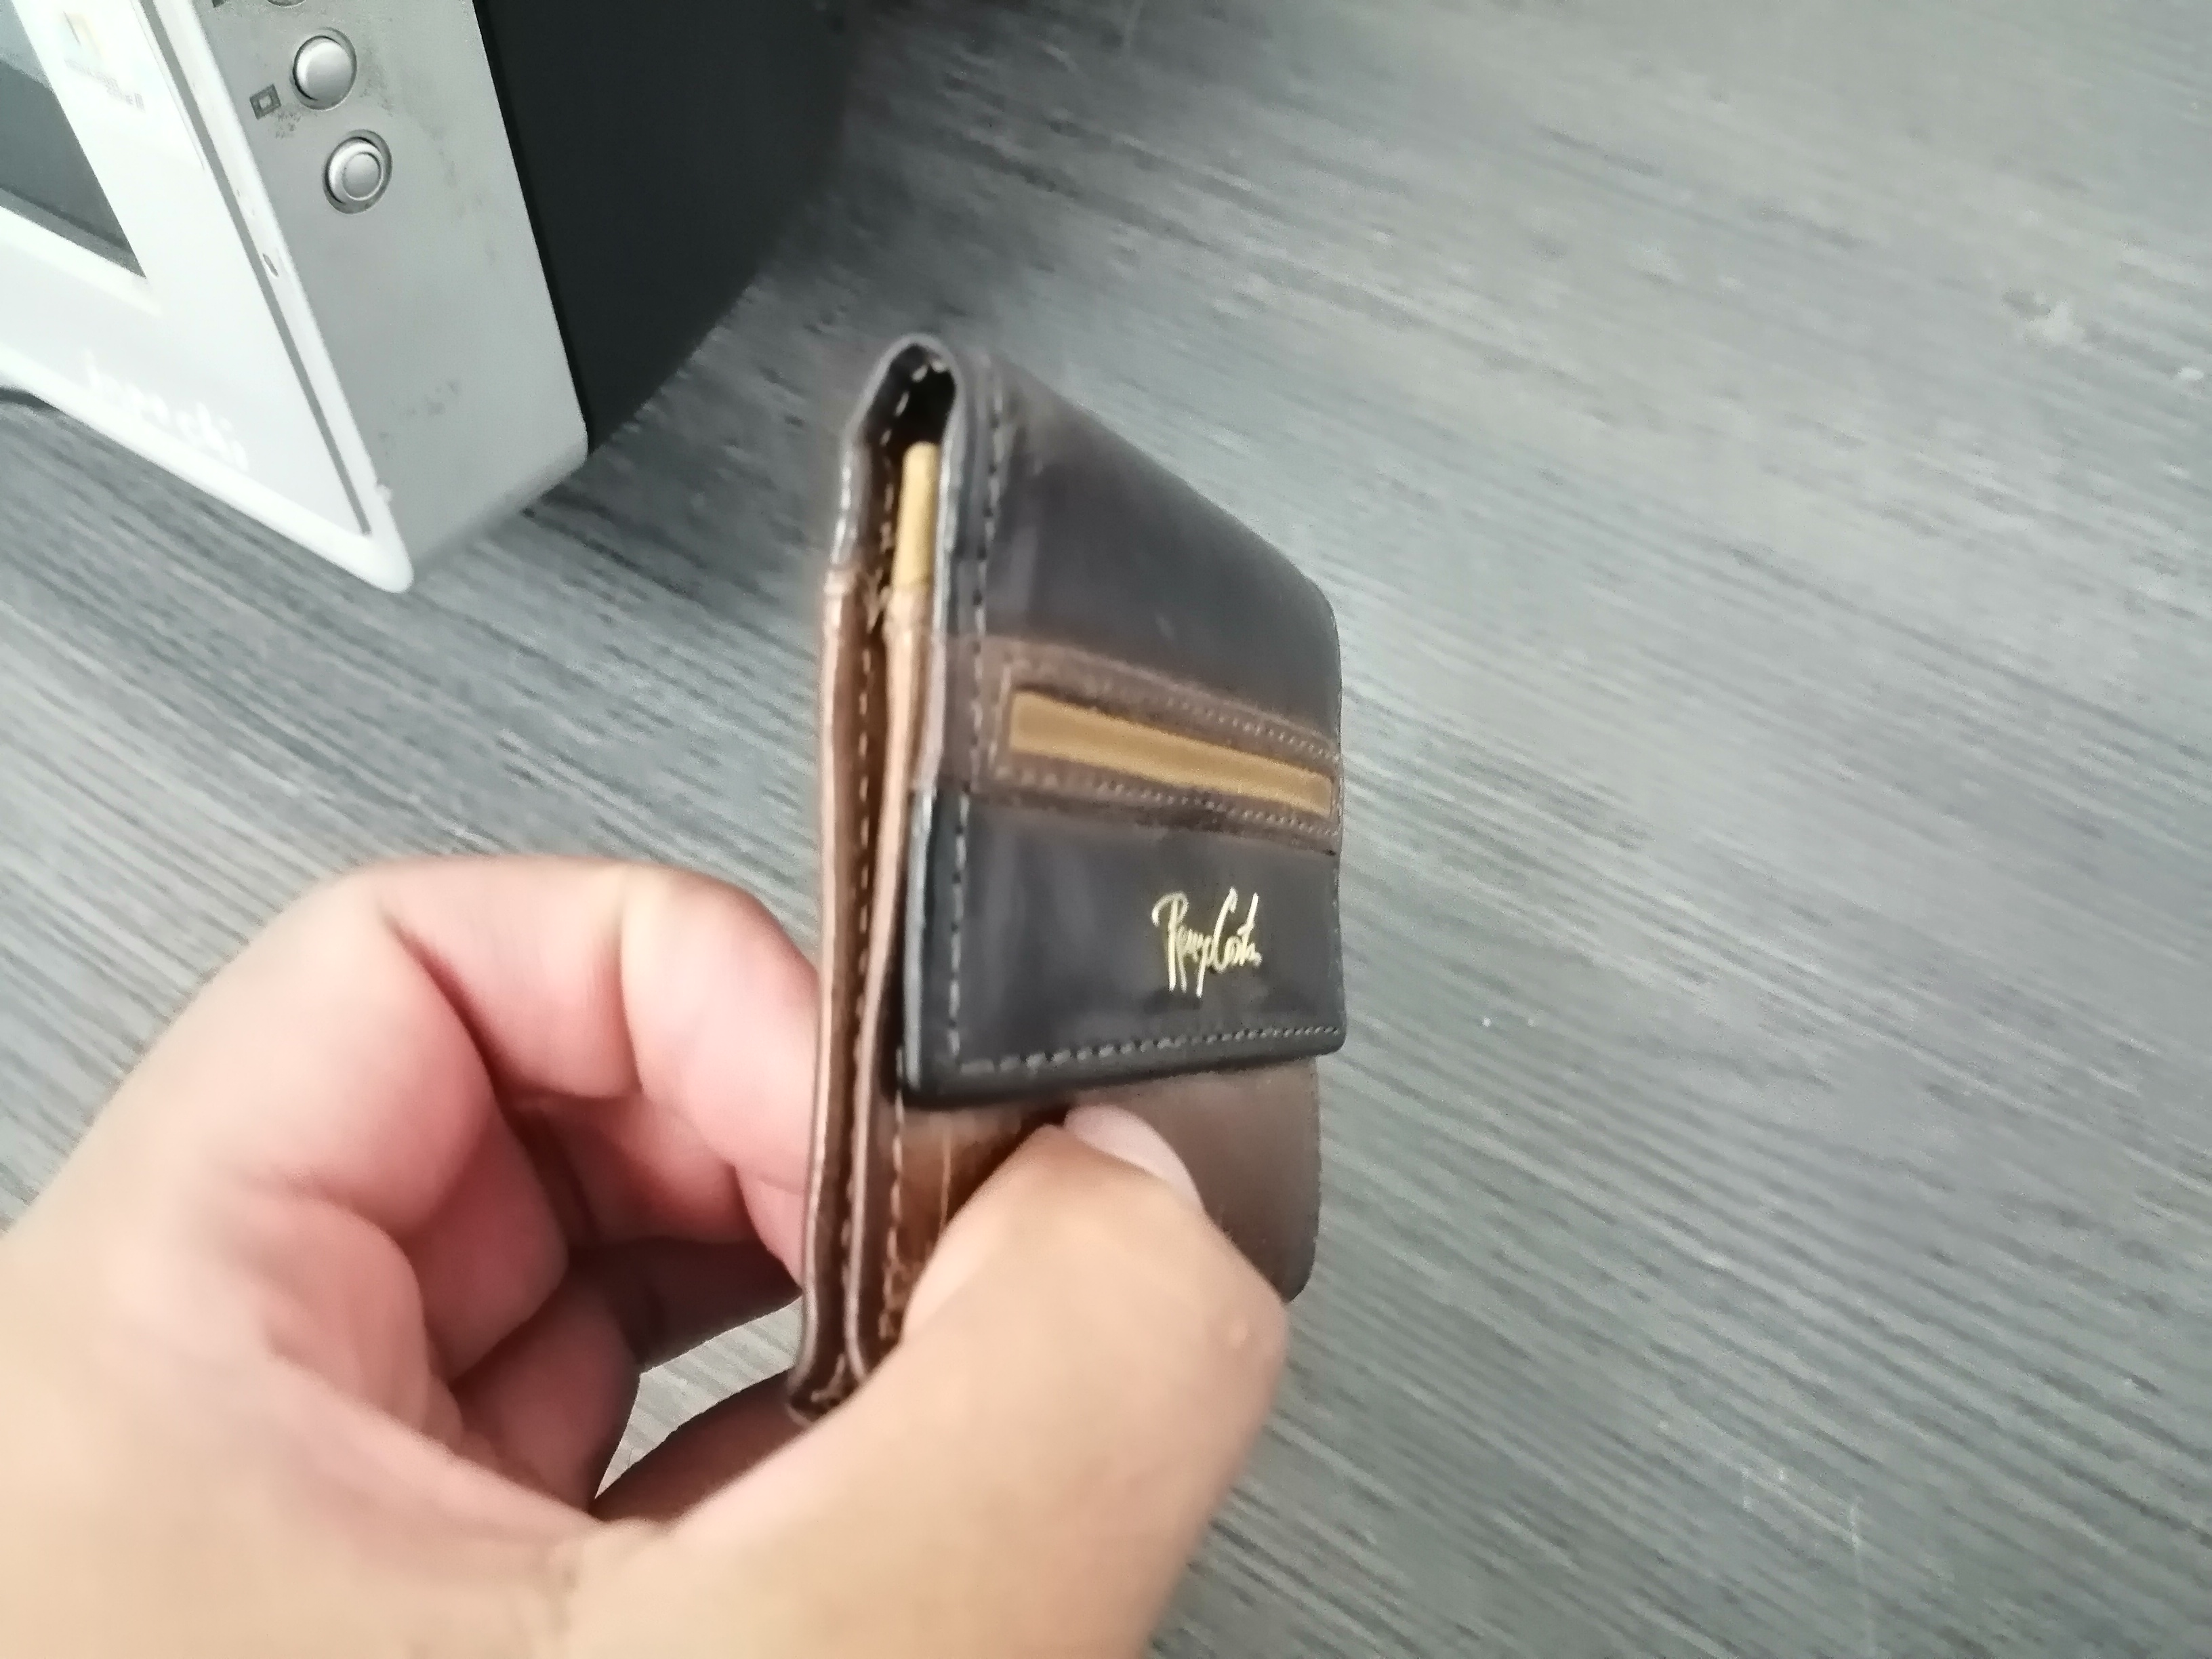monedero: (752, 305, 1371, 1432)
